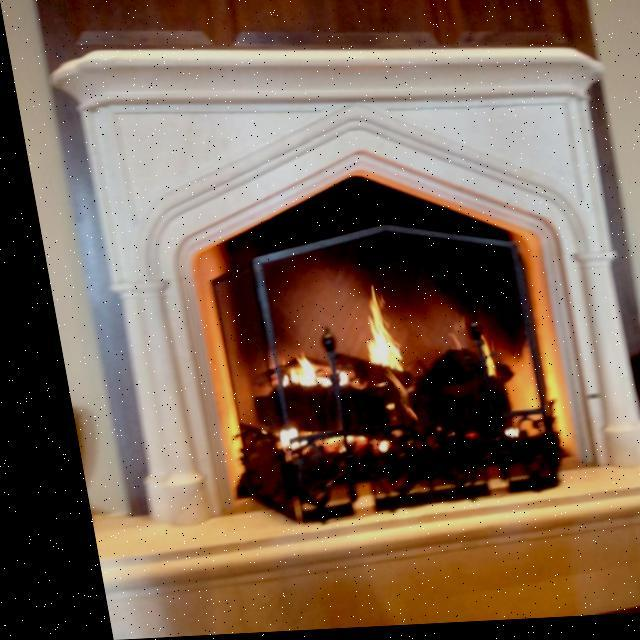Fire: (246, 275, 408, 461)
